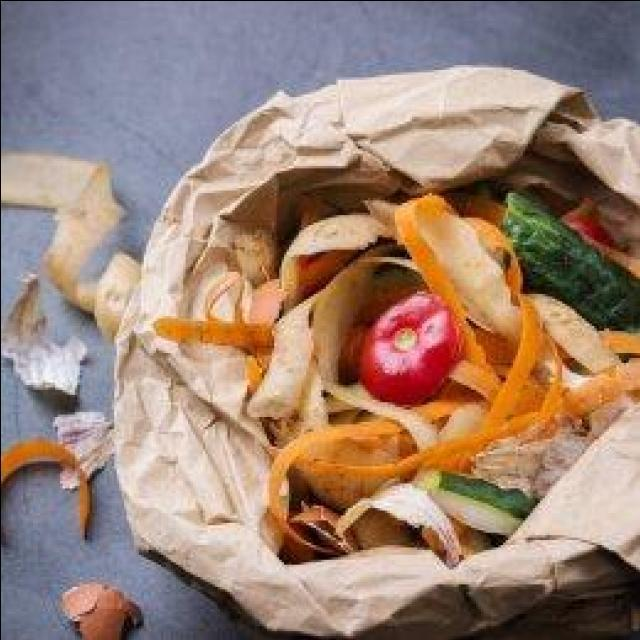Garbage: (223, 191, 640, 566)
